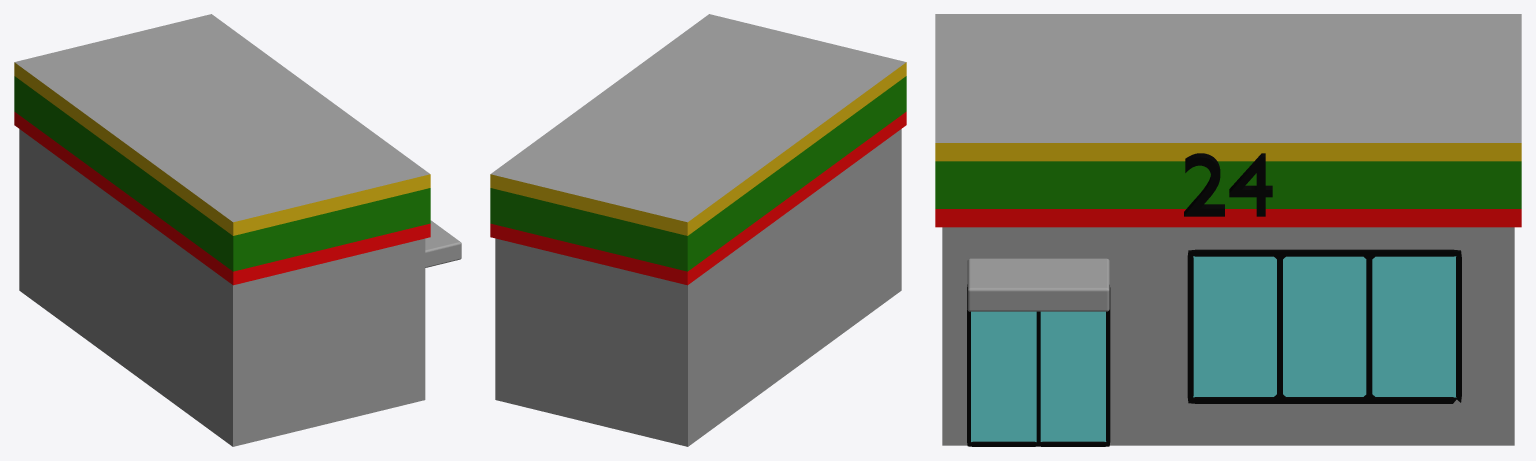
The model's file is コンビニ.fbx.
3 renders of one model, left to right at view 1: azimuth 30°, elevation 25°; view 2: azimuth 150°, elevation 25°; view 3: azimuth 270°, elevation 25°, orthographic. The views are drawn at different scales.
Visible parts, largest first — view 1: 立方体.021, 立方体, 立方体.037, 立方体.001, 立方体.040, 立方体.025, 立方体.034, 立方体.041, 立方体.011, 立方体.066, 立方体.027, 立方体.068 (+16 smaller); view 2: 立方体.015, 立方体, 立方体.001, 立方体.037, 立方体.040, 立方体.025, 立方体.051, 立方体.061, 立方体.053, 立方体.070, 立方体.027, 立方体.066 (+15 smaller); view 3: 立方体.001, 立方体.037, 立方体.040, 立方体.014, 立方体.007, 立方体.008, 立方体.009, 立方体.016, 立方体.018, 立方体.005, 立方体.006, 立方体.002 (+21 smaller).
Boxes of the visible parts, <box> form: 立方体.021: <box>233,238,425,446</box>; 立方体: <box>19,129,160,393</box>; 立方体.037: <box>80,30,364,206</box>; 立方体.001: <box>146,14,429,189</box>; 立方体.040: <box>14,46,298,222</box>; 立方体.025: <box>161,233,232,446</box>; 立方体.034: <box>364,188,430,239</box>; 立方体.041: <box>233,220,298,271</box>; 立方体.011: <box>299,204,364,255</box>; 立方体.066: <box>178,196,233,271</box>; 立方体.027: <box>123,156,178,230</box>; 立方体.068: <box>69,116,123,190</box>; 立方体.015: <box>495,238,687,446</box>; 立方体: <box>688,182,829,446</box>; 立方体.001: <box>490,14,774,189</box>; 立方体.037: <box>556,30,840,206</box>; 立方体.040: <box>622,46,906,222</box>; 立方体.025: <box>829,129,901,342</box>; 立方体.051: <box>490,188,556,239</box>; 立方体.061: <box>622,220,687,271</box>; 立方体.053: <box>556,204,621,255</box>; 立方体.070: <box>687,196,742,271</box>; 立方体.027: <box>797,116,851,191</box>; 立方体.066: <box>852,76,906,150</box>; 立方体.001: <box>935,100,1521,142</box>; 立方体.037: <box>935,57,1521,99</box>; 立方体.040: <box>935,14,1521,56</box>; 立方体.014: <box>1135,399,1513,445</box>; 立方体.007: <box>1372,256,1456,397</box>; 立方体.008: <box>1193,256,1276,397</box>; 立方体.009: <box>1283,256,1366,396</box>; 立方体.016: <box>1461,227,1514,445</box>; 立方体.018: <box>1135,227,1188,445</box>; 立方体.005: <box>1040,311,1106,441</box>; 立方体.006: <box>971,311,1036,441</box>; 立方体.002: <box>1187,249,1461,403</box>.
Bounding box in the file's own units: 2.51 × 2.25 × 3.94.
